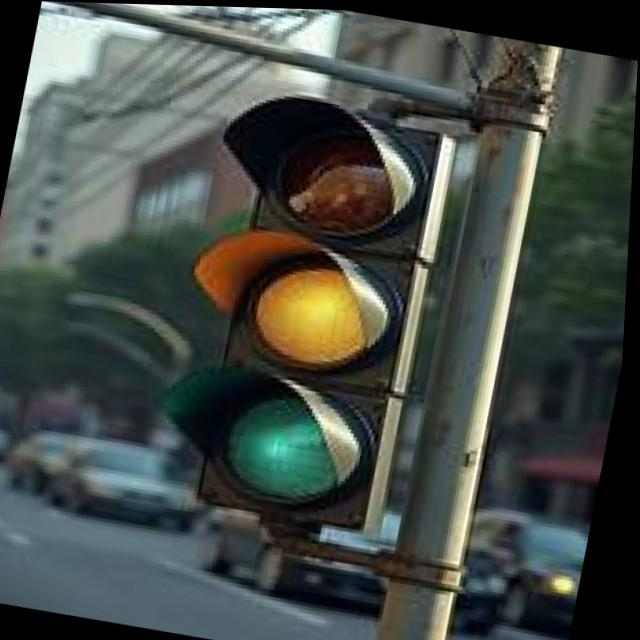green_light: (135, 338, 418, 536)
yellow_light: (187, 225, 447, 401)
